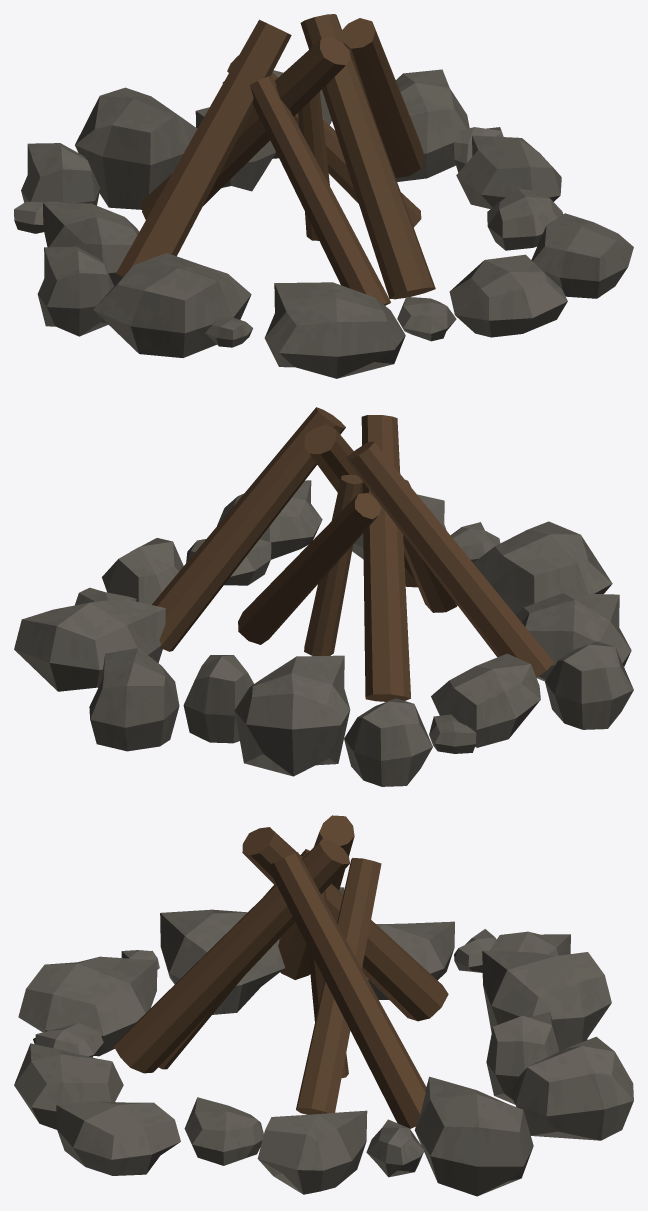
File: CampFire_F.fbx
3 views of the same model, one above another, from view 1: azimuth 30°, elevation 25°; view 2: azimuth 150°, elevation 25°; view 3: azimuth 270°, elevation 25° (orthographic). The views are drawn at different scales.
Visible parts, largest first — view 1: campFire:Mesh; view 2: campFire:Mesh; view 3: campFire:Mesh.
Part boxes in pixels (x1,y1,x2,y2): campFire:Mesh: [14, 14, 633, 378]; campFire:Mesh: [14, 407, 633, 786]; campFire:Mesh: [14, 815, 633, 1196].
Size of the model in its own units: 8.18 by 3.66 by 8.18.
